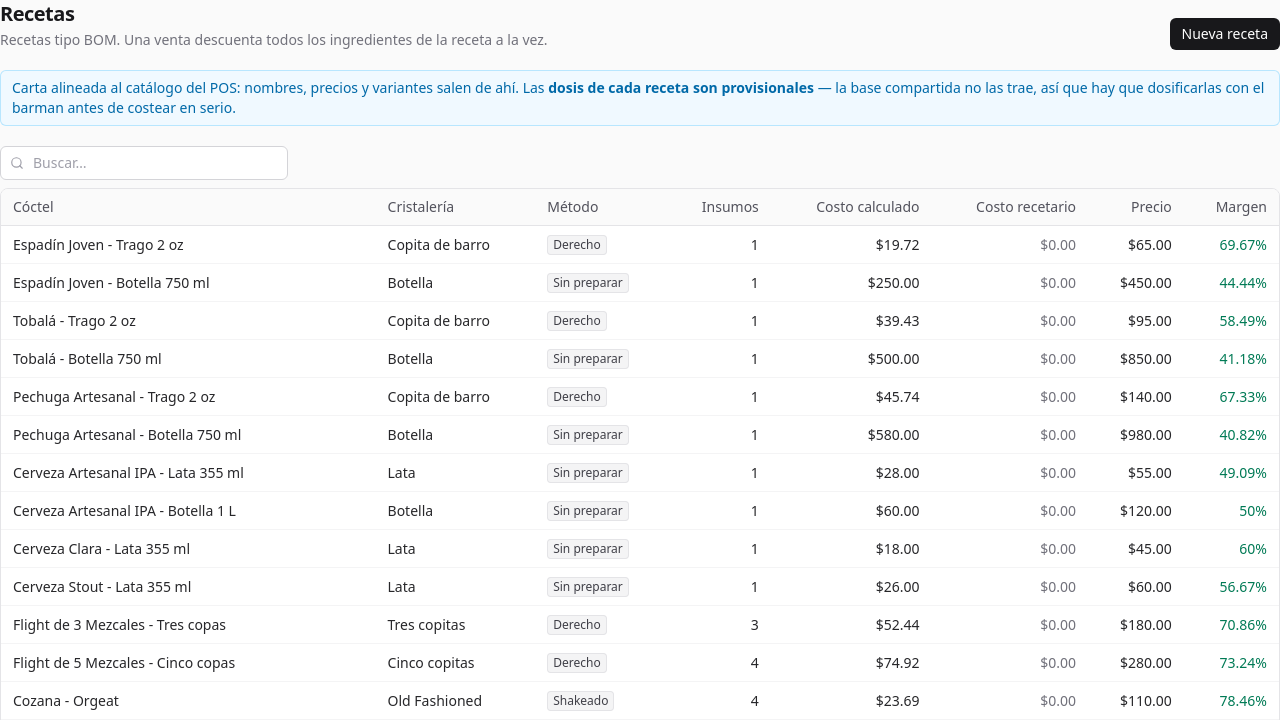
<RecetasPage> › una receta sin ingredientes avisa que no descontará inventario
Click the button "Nueva receta".
click(1225, 34)  # box [1170,18,1279,50]
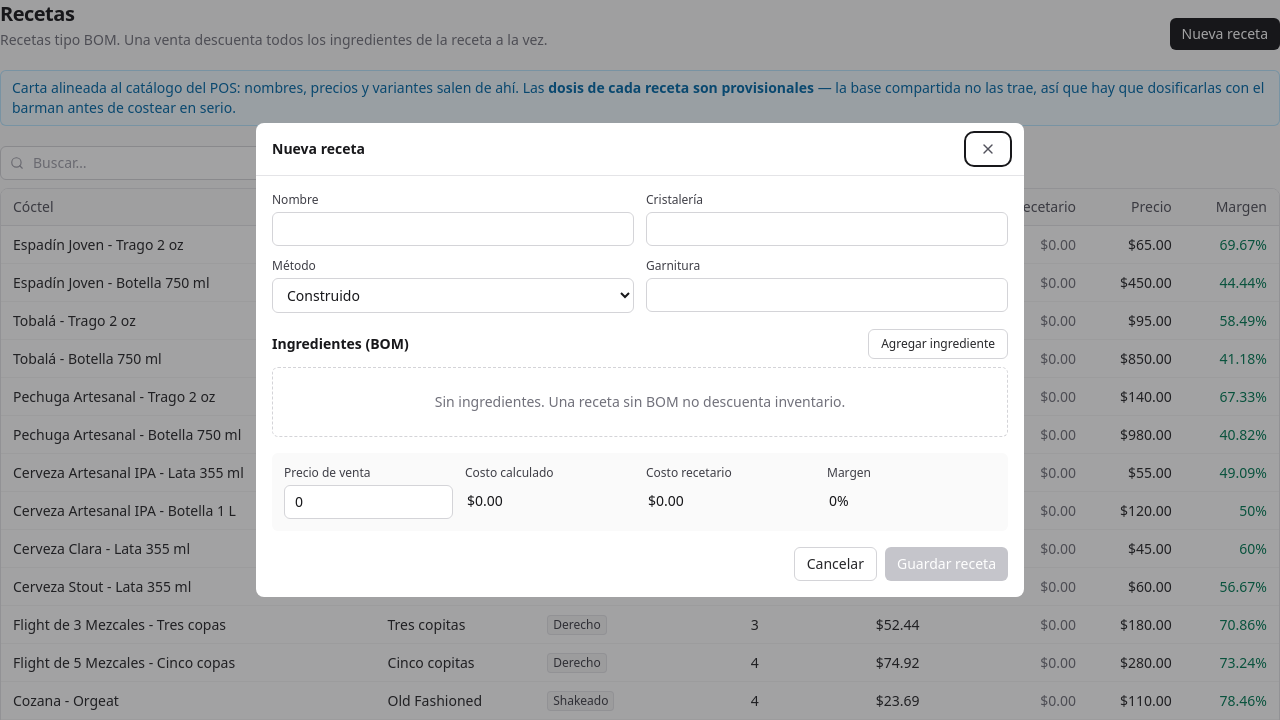
Now the text "no descuenta inventario" is shown, box [435,392,845,411]
